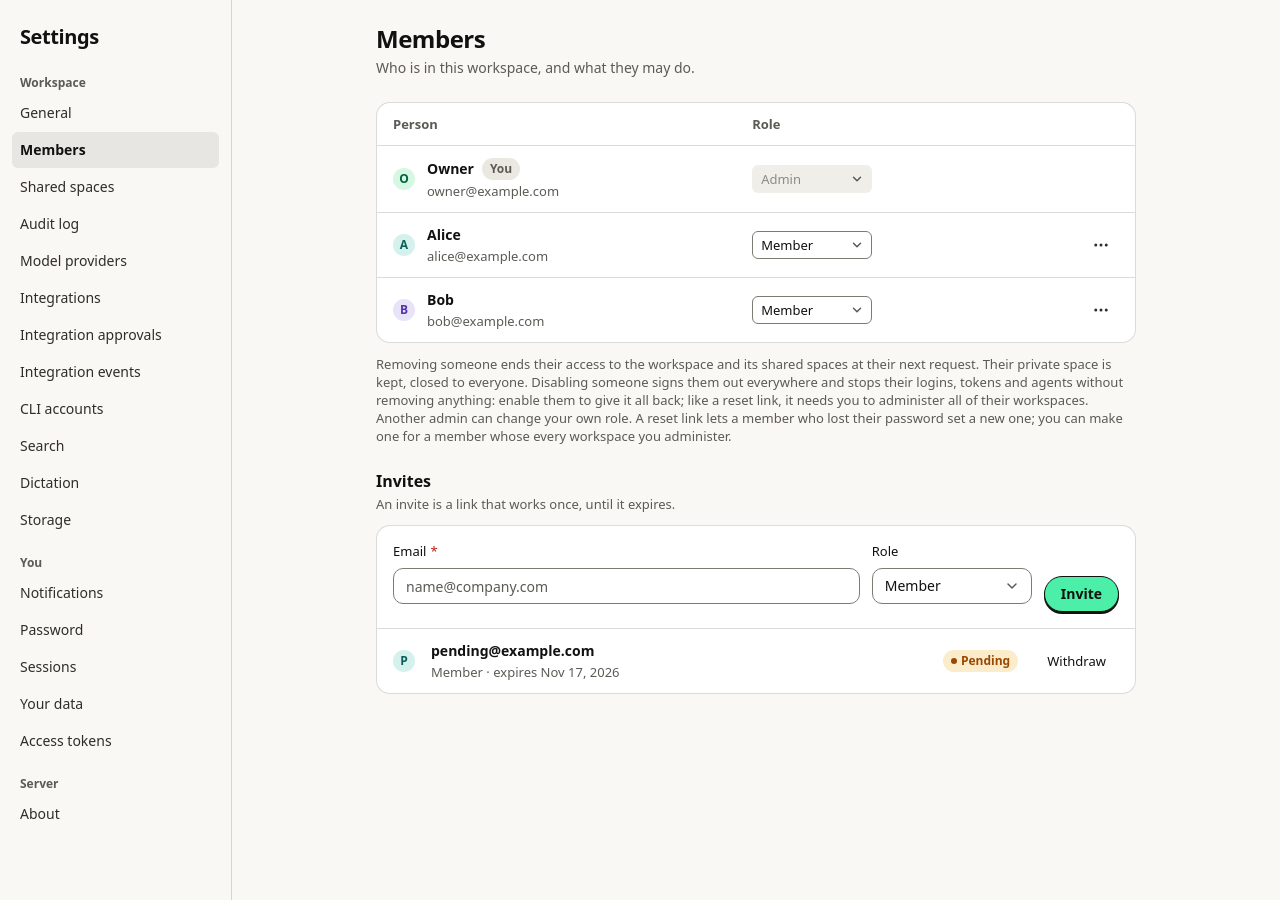
Test: withdrawing an invite › Cancel sends nothing
Step 1. Click the button with aria-label "Withdraw the invite for pending@example.com" → (1077, 661), box 1034,647 -> 1119,675
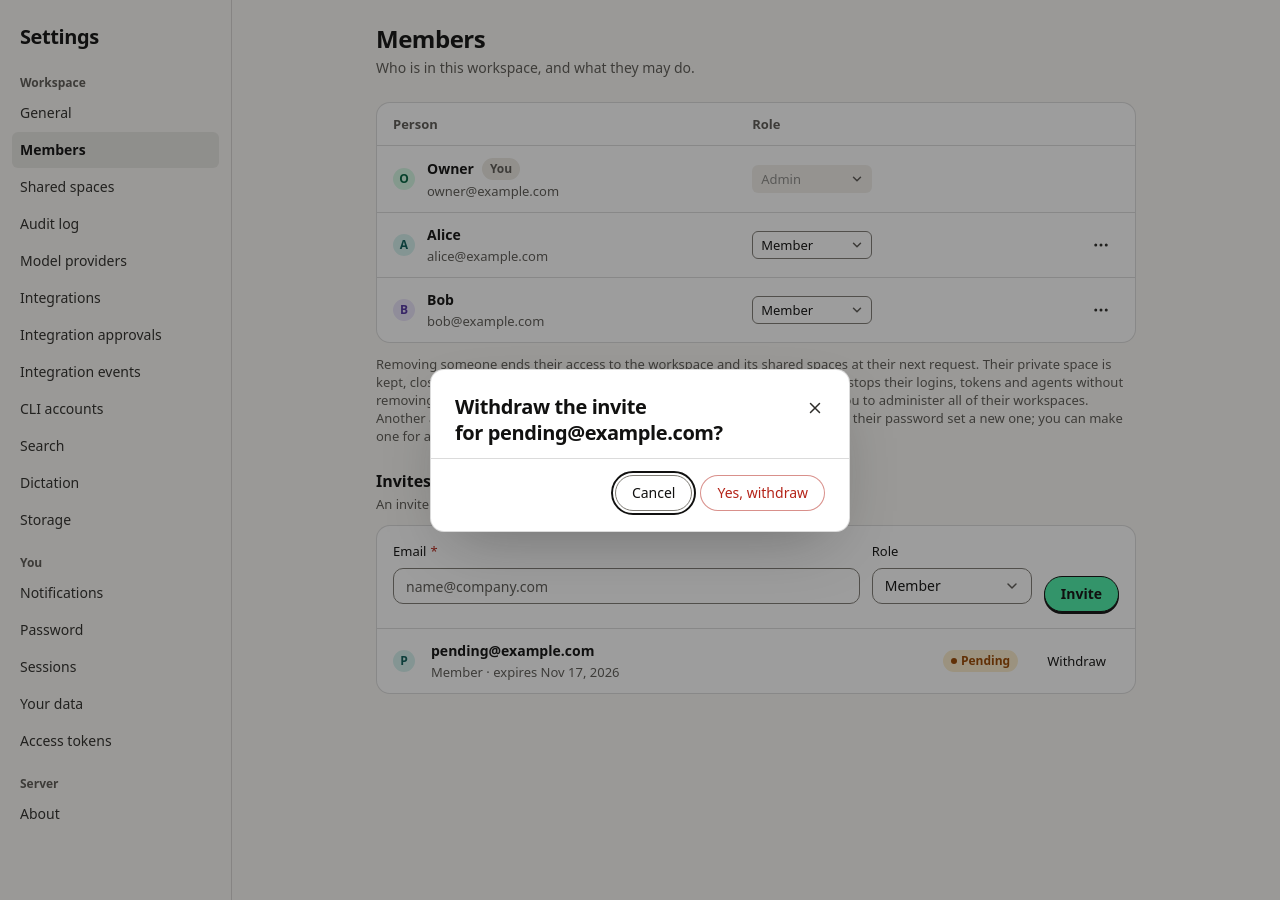
Expected: the dialog is shown, 430,368 -> 850,532
Step 2. Click the button "Cancel" → (654, 492), box 615,474 -> 692,510
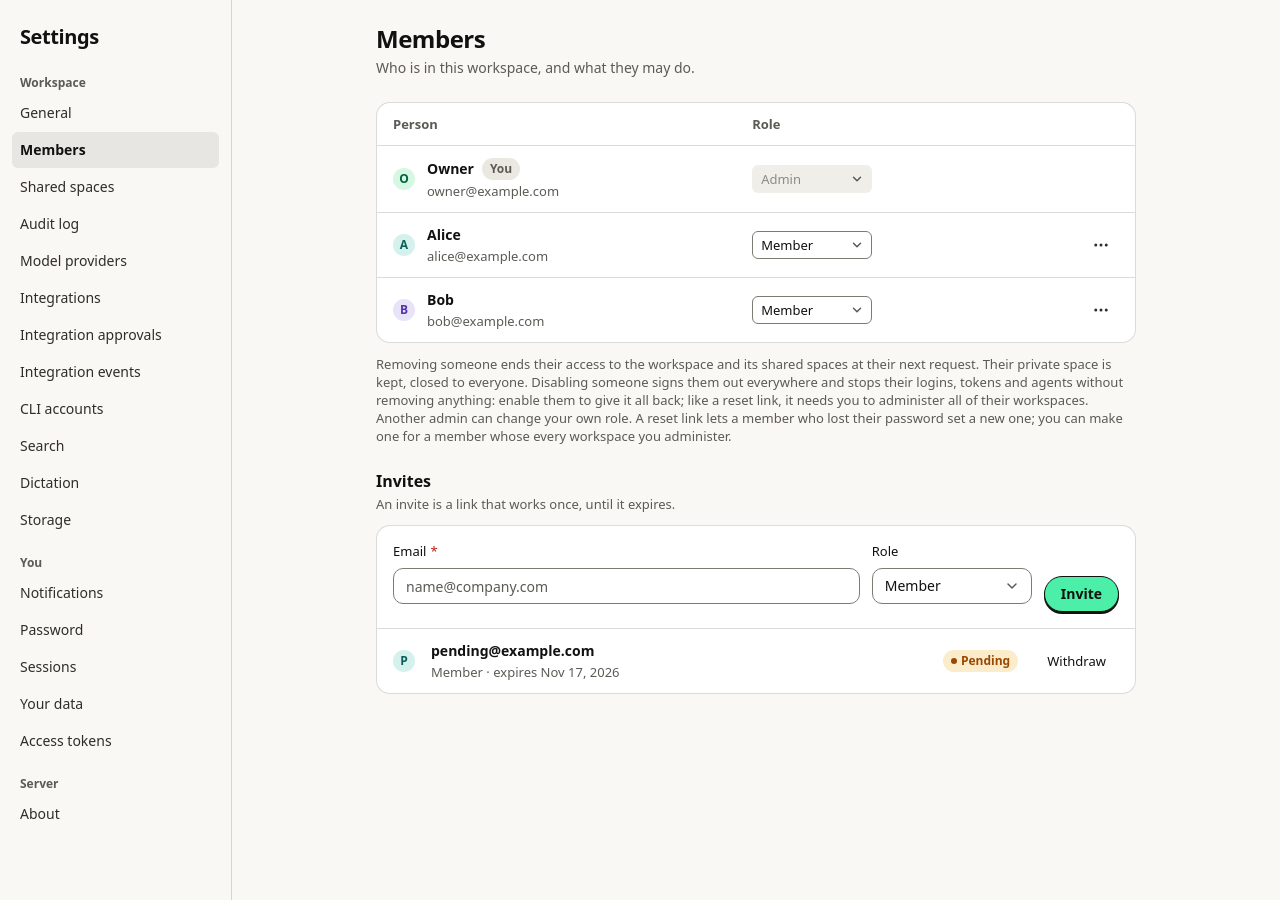
Expected: the dialog is gone
